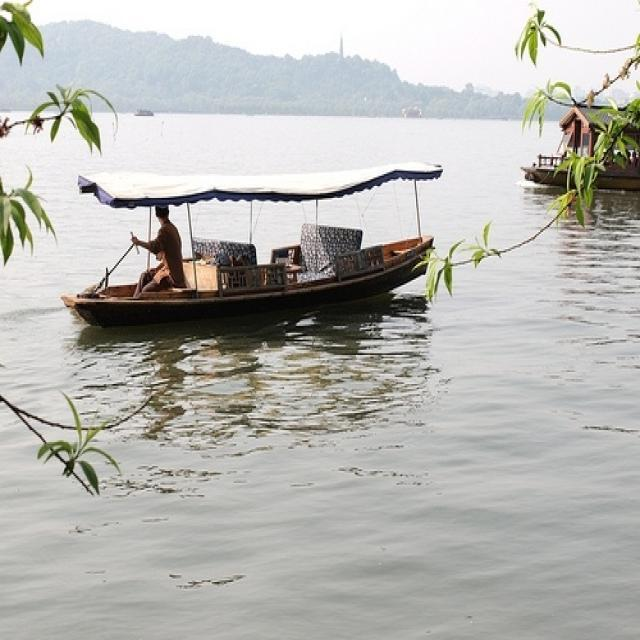boat: (58, 223, 436, 335), (130, 104, 160, 122)
